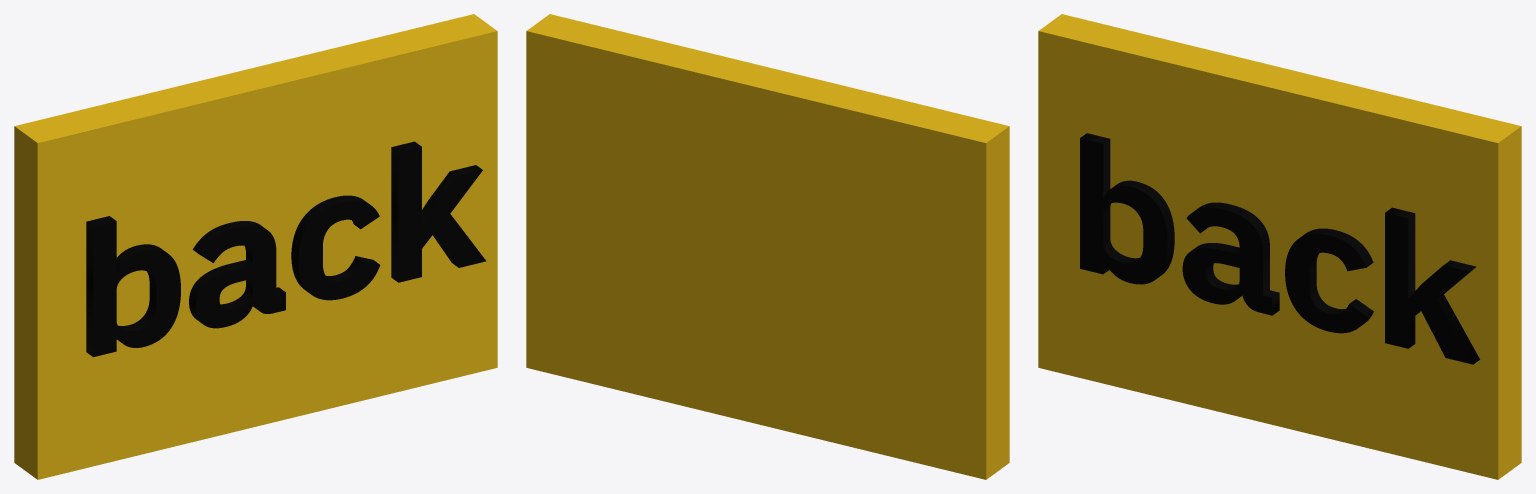
Rendered from back2.glb.
3 views of the same model, side by side, from view 1: azimuth 30°, elevation 25°; view 2: azimuth 150°, elevation 25°; view 3: azimuth 330°, elevation 25° (orthographic).
Parts seen in each view (by area): view 1: Plane.027, Text.023; view 2: Plane.027; view 3: Plane.027, Text.023.
Part boxes in pixels (x1=…): Plane.027: x1=14, y1=14, x2=497, y2=479; Text.023: x1=86, y1=141, x2=486, y2=357; Plane.027: x1=526, y1=14, x2=1009, y2=479; Plane.027: x1=1038, y1=14, x2=1521, y2=479; Text.023: x1=1080, y1=133, x2=1479, y2=364.
Size of the model in its own units: 0.2 by 0.14 by 0.0229.
